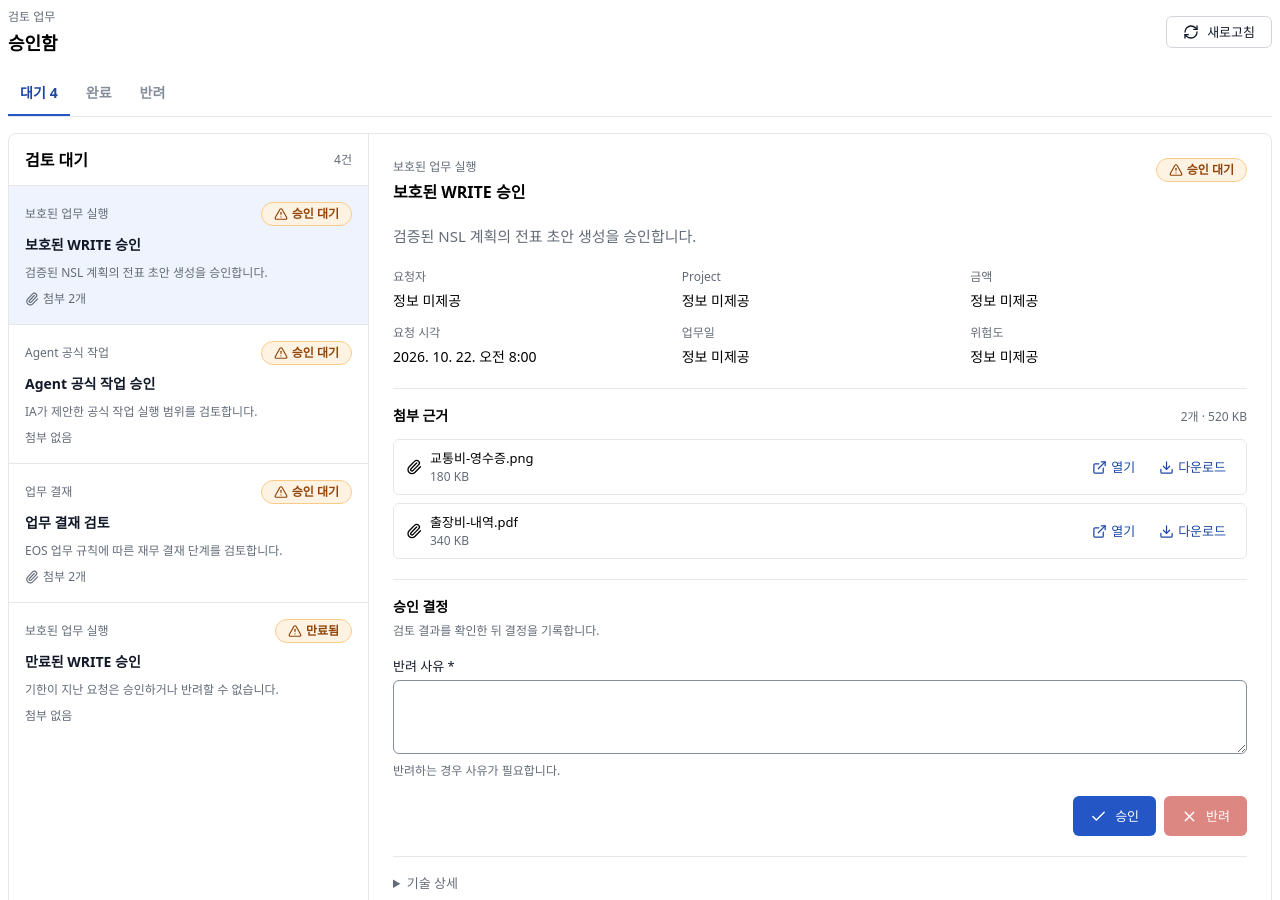
Test: Approval Inbox React surface › requires a rejection reason and confirms a rejection accessibly
This screenshot has width=1280, height=900.
Check: the heading "보호된 WRITE 승인" is shown, box [393, 180, 525, 204]
Check: the button "반려" is disabled, box [1164, 796, 1247, 836]
Click the text box labelled "반려 사유 *": [820, 717] box [393, 680, 1247, 754]
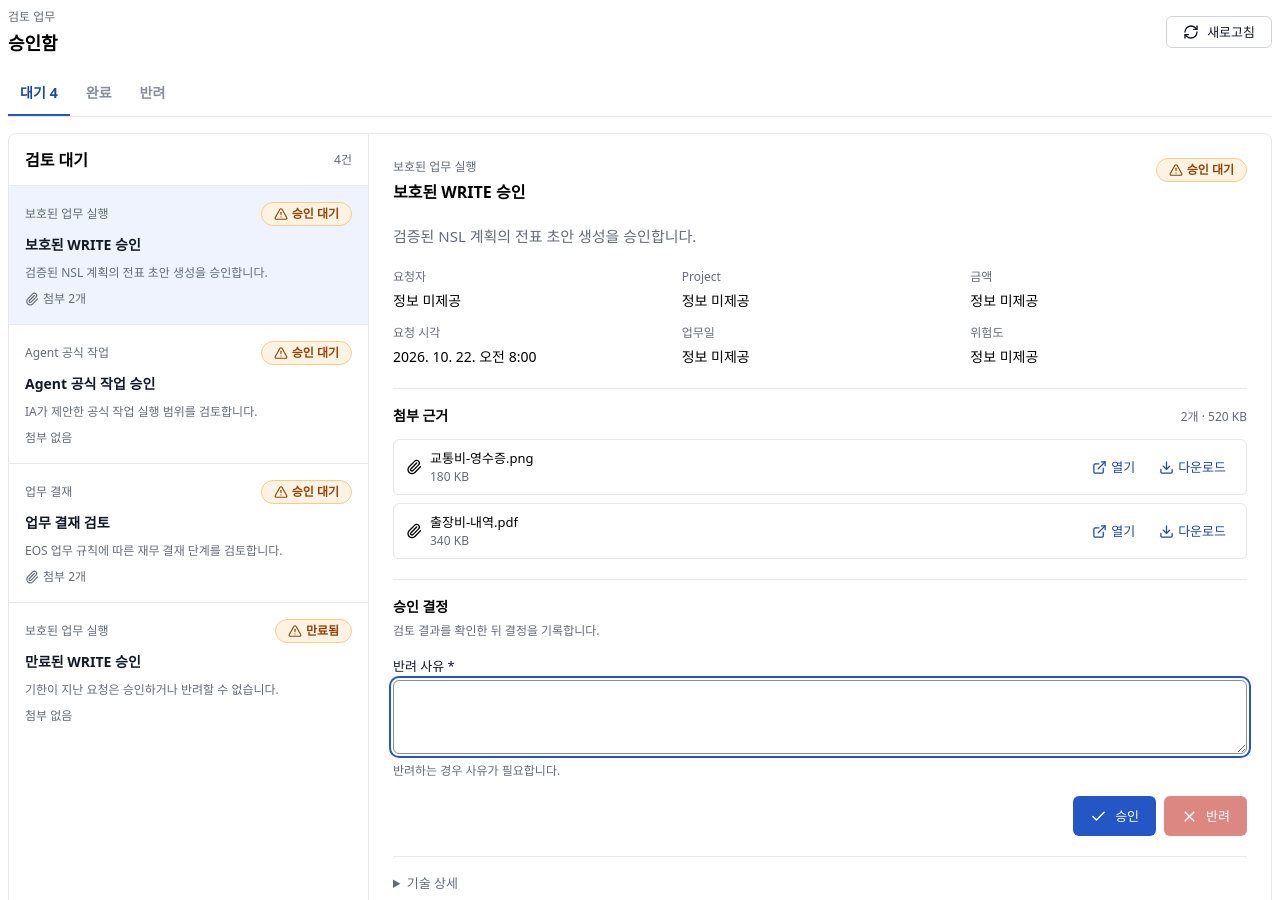
Press Tab
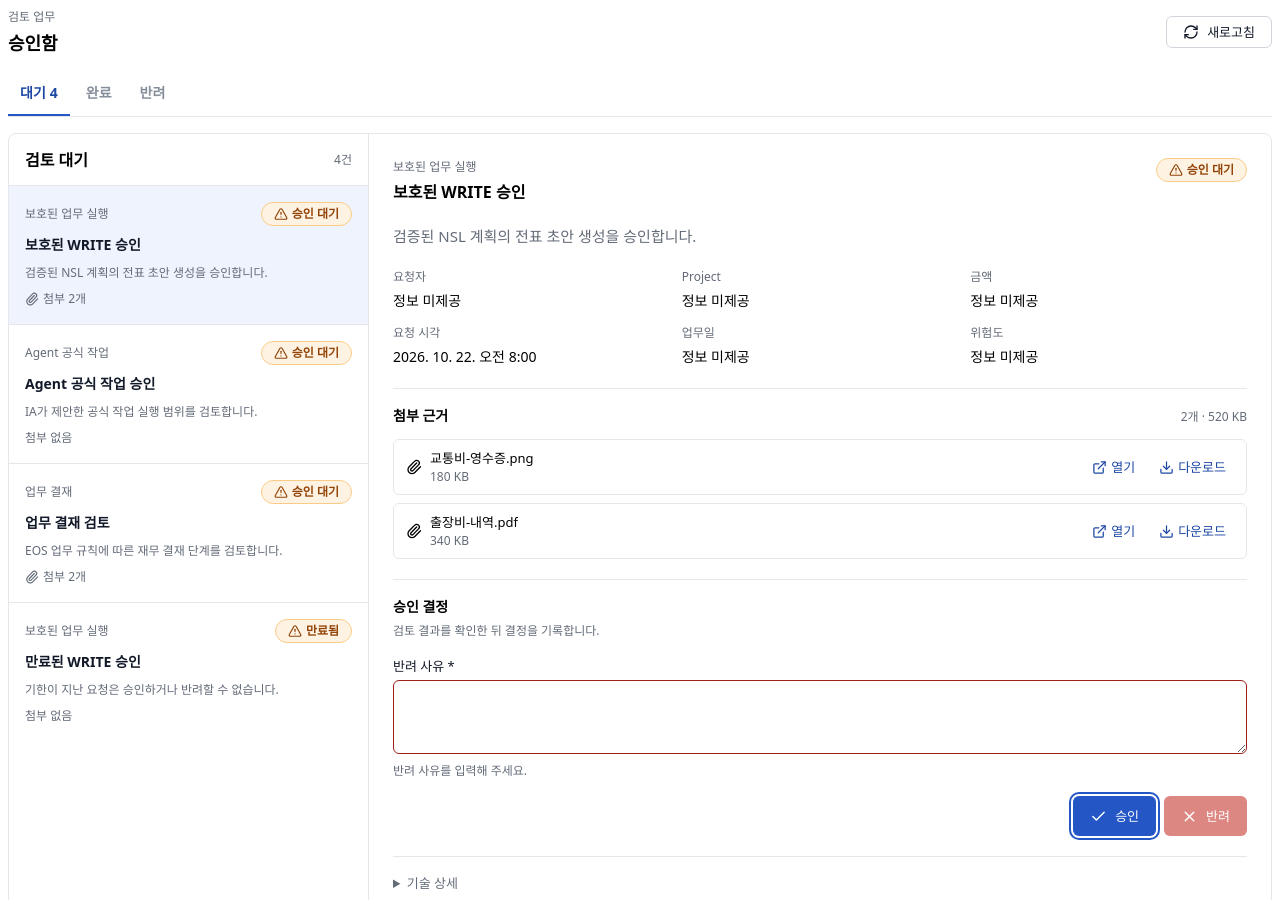
Check: the text "반려 사유를 입력해 주세요." is shown, box [393, 762, 527, 779]
In the text box labelled "반려 사유 *": [820, 717] box [393, 680, 1247, 754], type "증빙 금액을 다시 확인해 주세요."
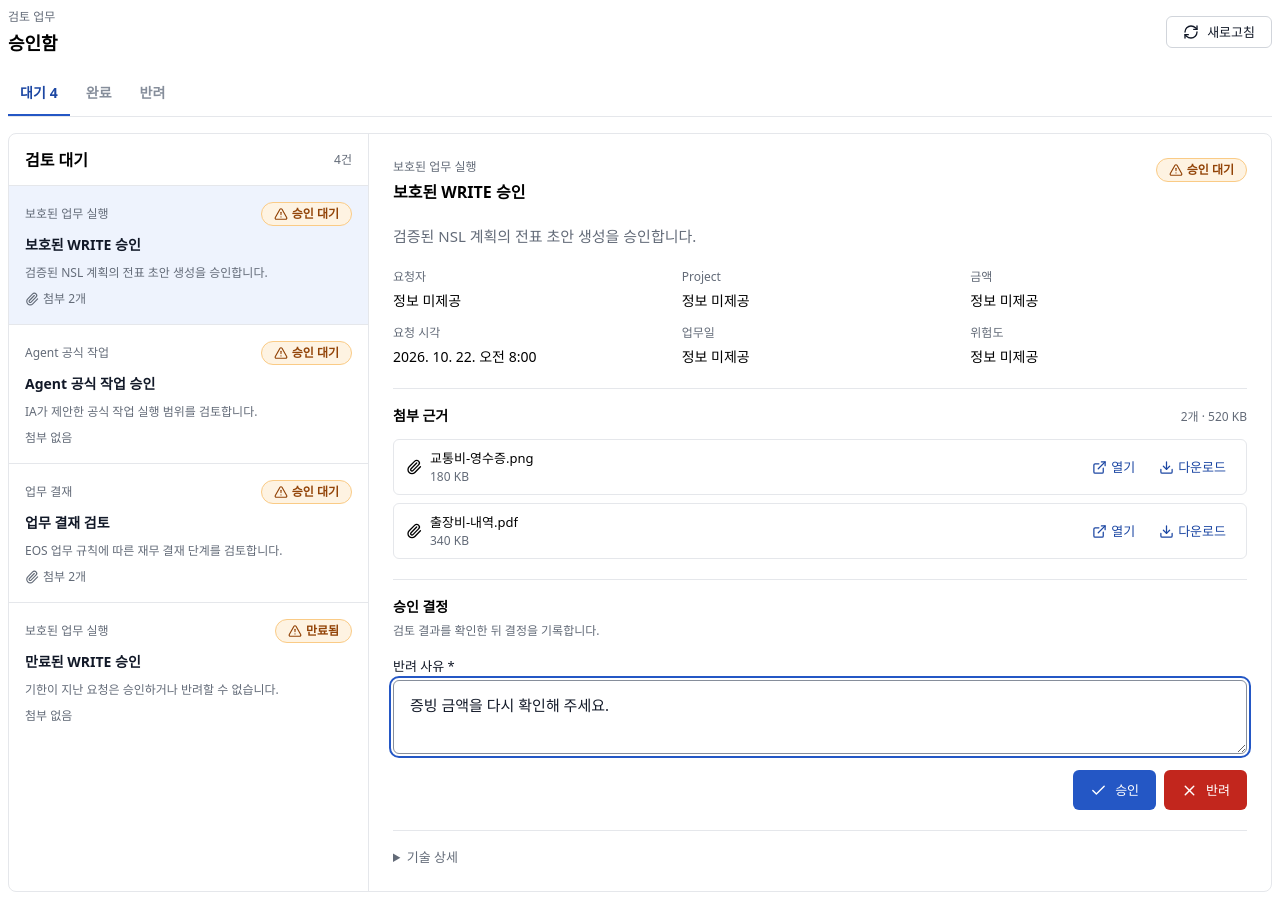
Check: the button "반려" is enabled
Click the button "반려": [1206, 790] box [1164, 770, 1247, 810]
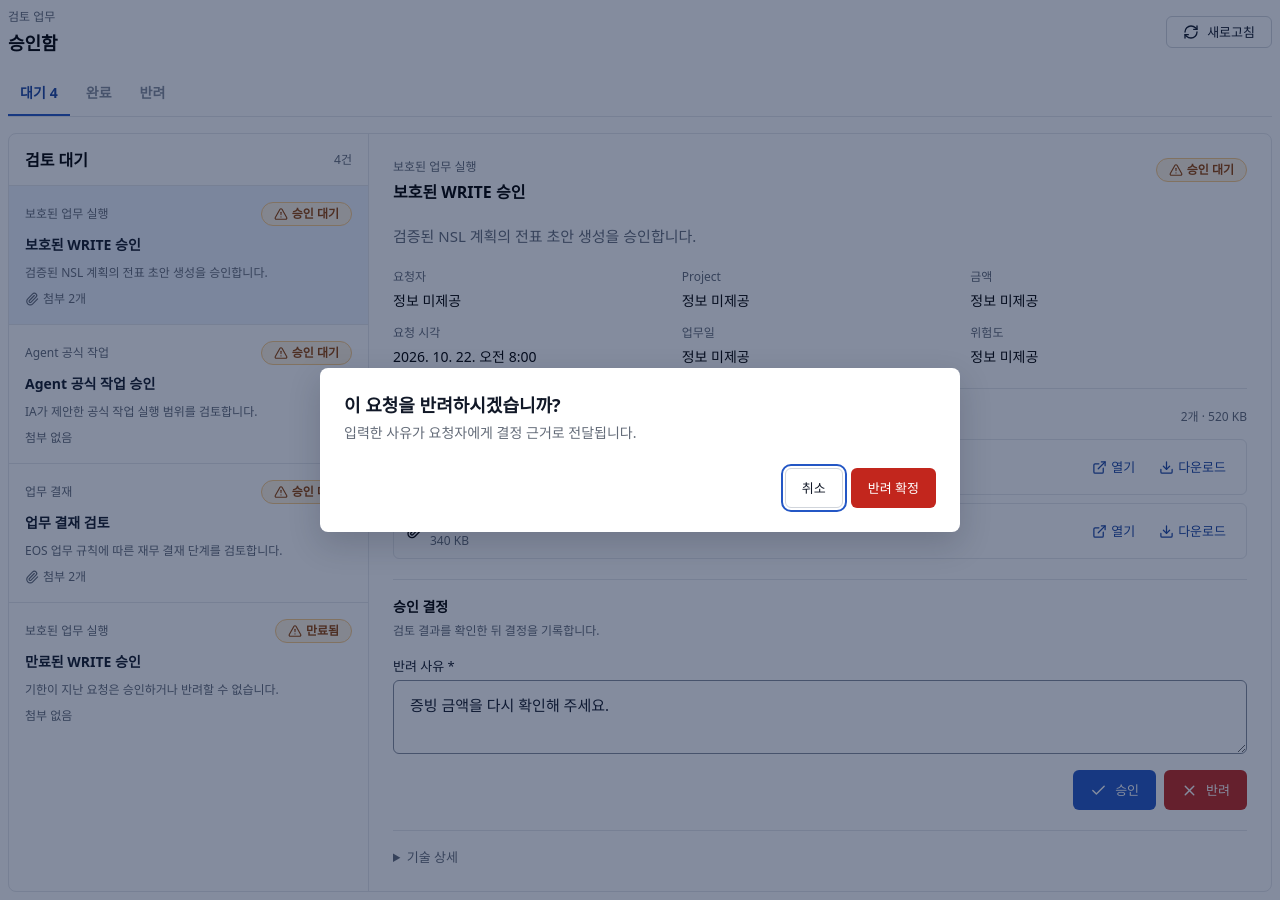
Click the button "반려 확정": [893, 488] box [851, 468, 936, 508]
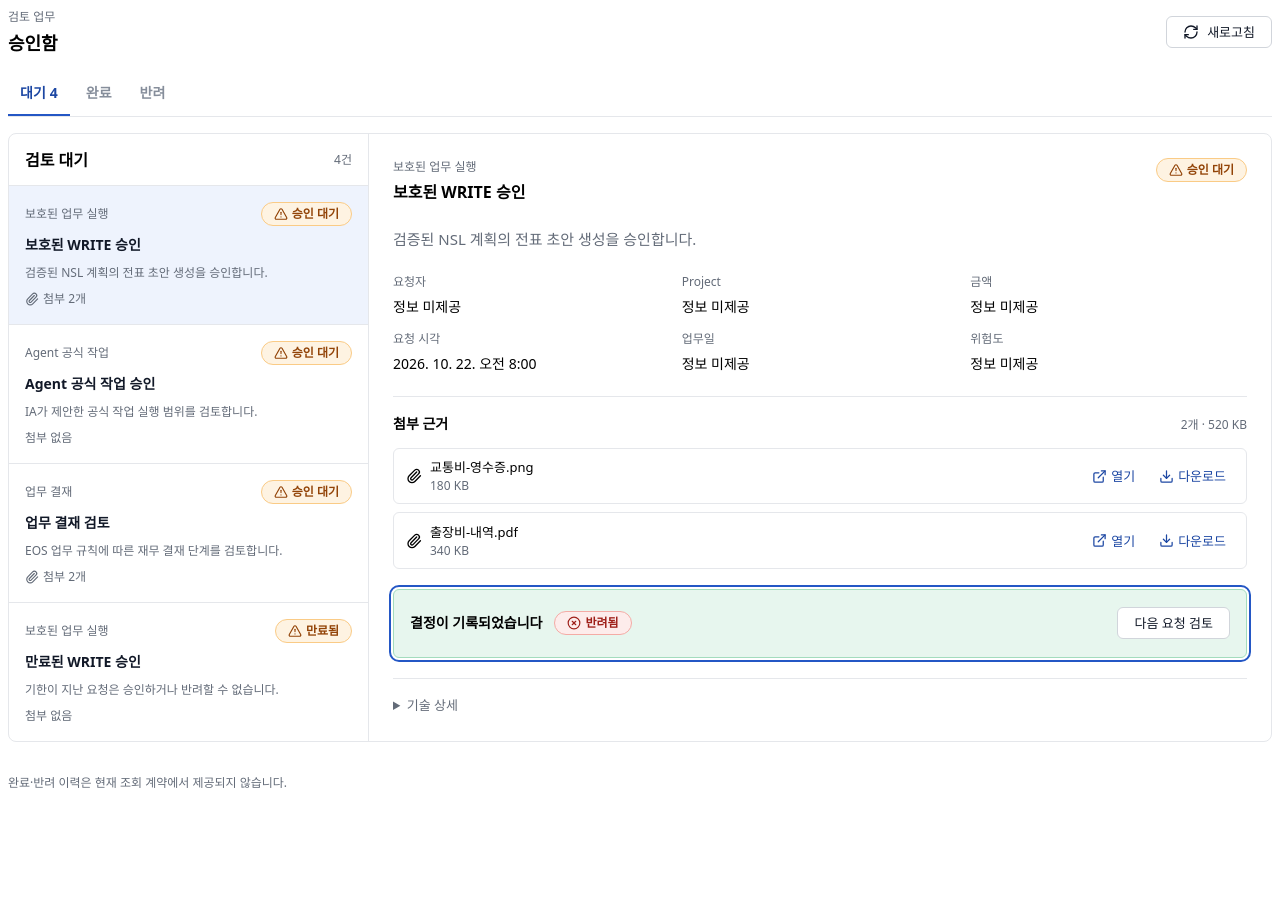
Check: the text "반려됨" is shown, box [586, 614, 619, 632]
